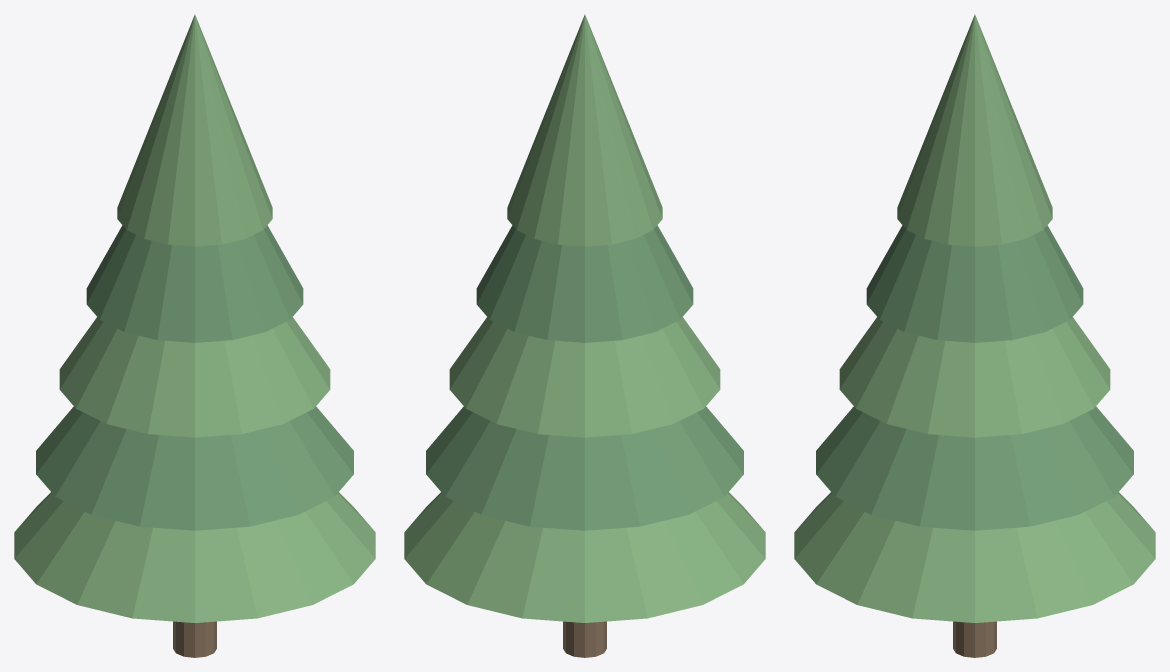
File: Pine.fbx
3 renders of one model, left to right at view 1: azimuth 30°, elevation 25°; view 2: azimuth 150°, elevation 25°; view 3: azimuth 270°, elevation 25°, orthographic.
Parts seen in each view (by area): view 1: Pine; view 2: Pine; view 3: Pine.
Boxes of the visible parts, x1,y1,x2,y2 form: Pine: (14,14,375,657); Pine: (404,14,765,657); Pine: (794,14,1155,657).
Bounding box in the file's own units: 240 × 458 × 236.
